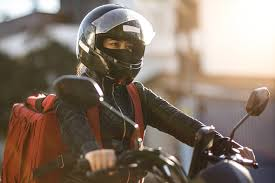com_capacete: (75, 2, 159, 90)
